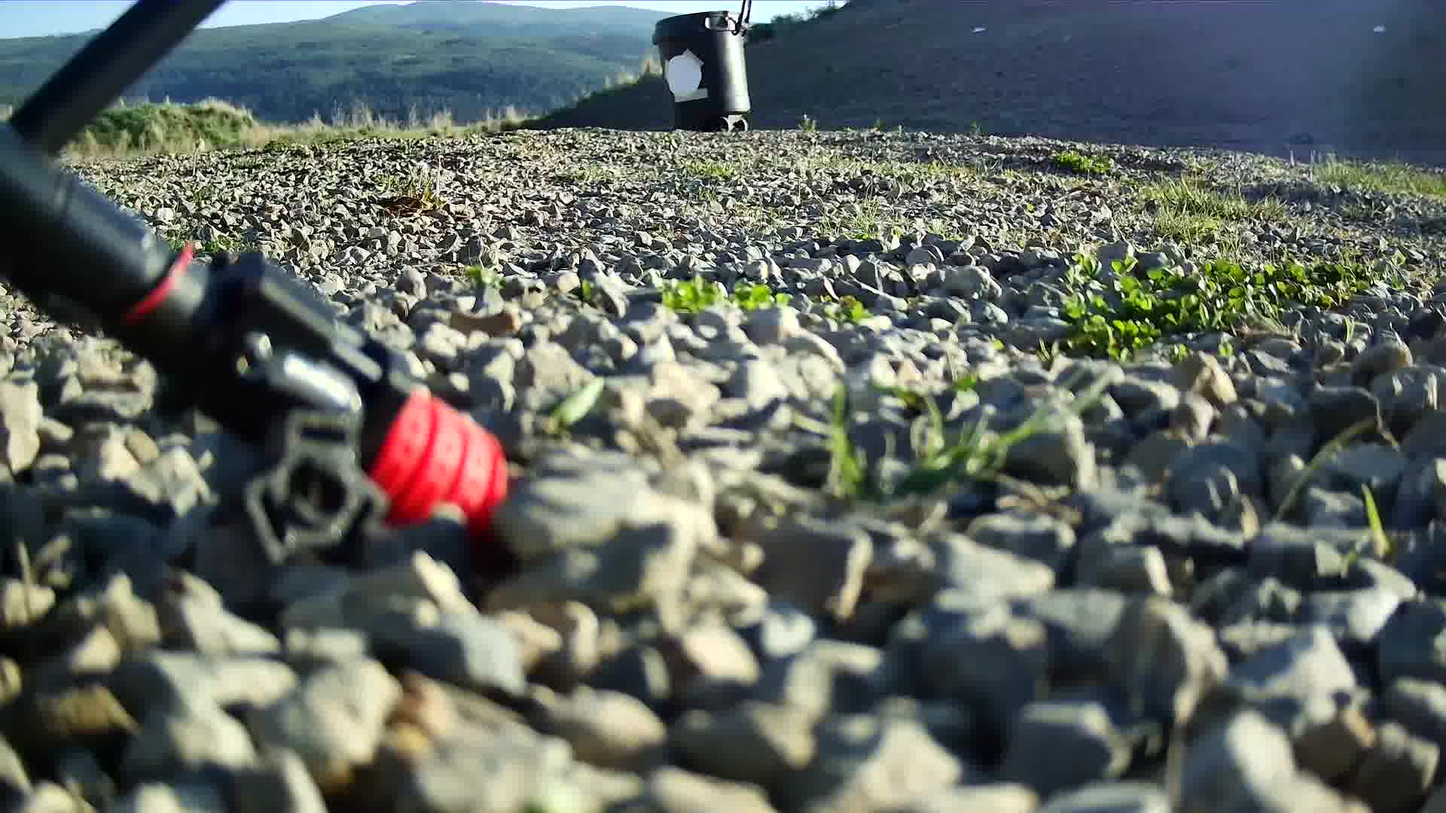Target: (667, 56, 699, 95)
